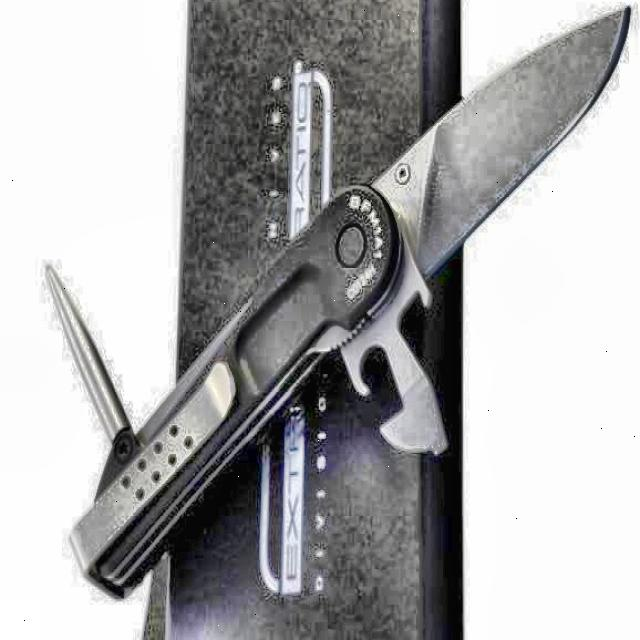knife: (70, 10, 630, 596)
